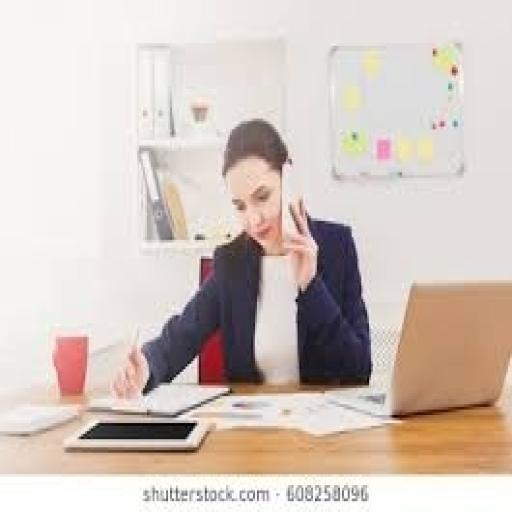calling: (108, 116, 373, 401)
